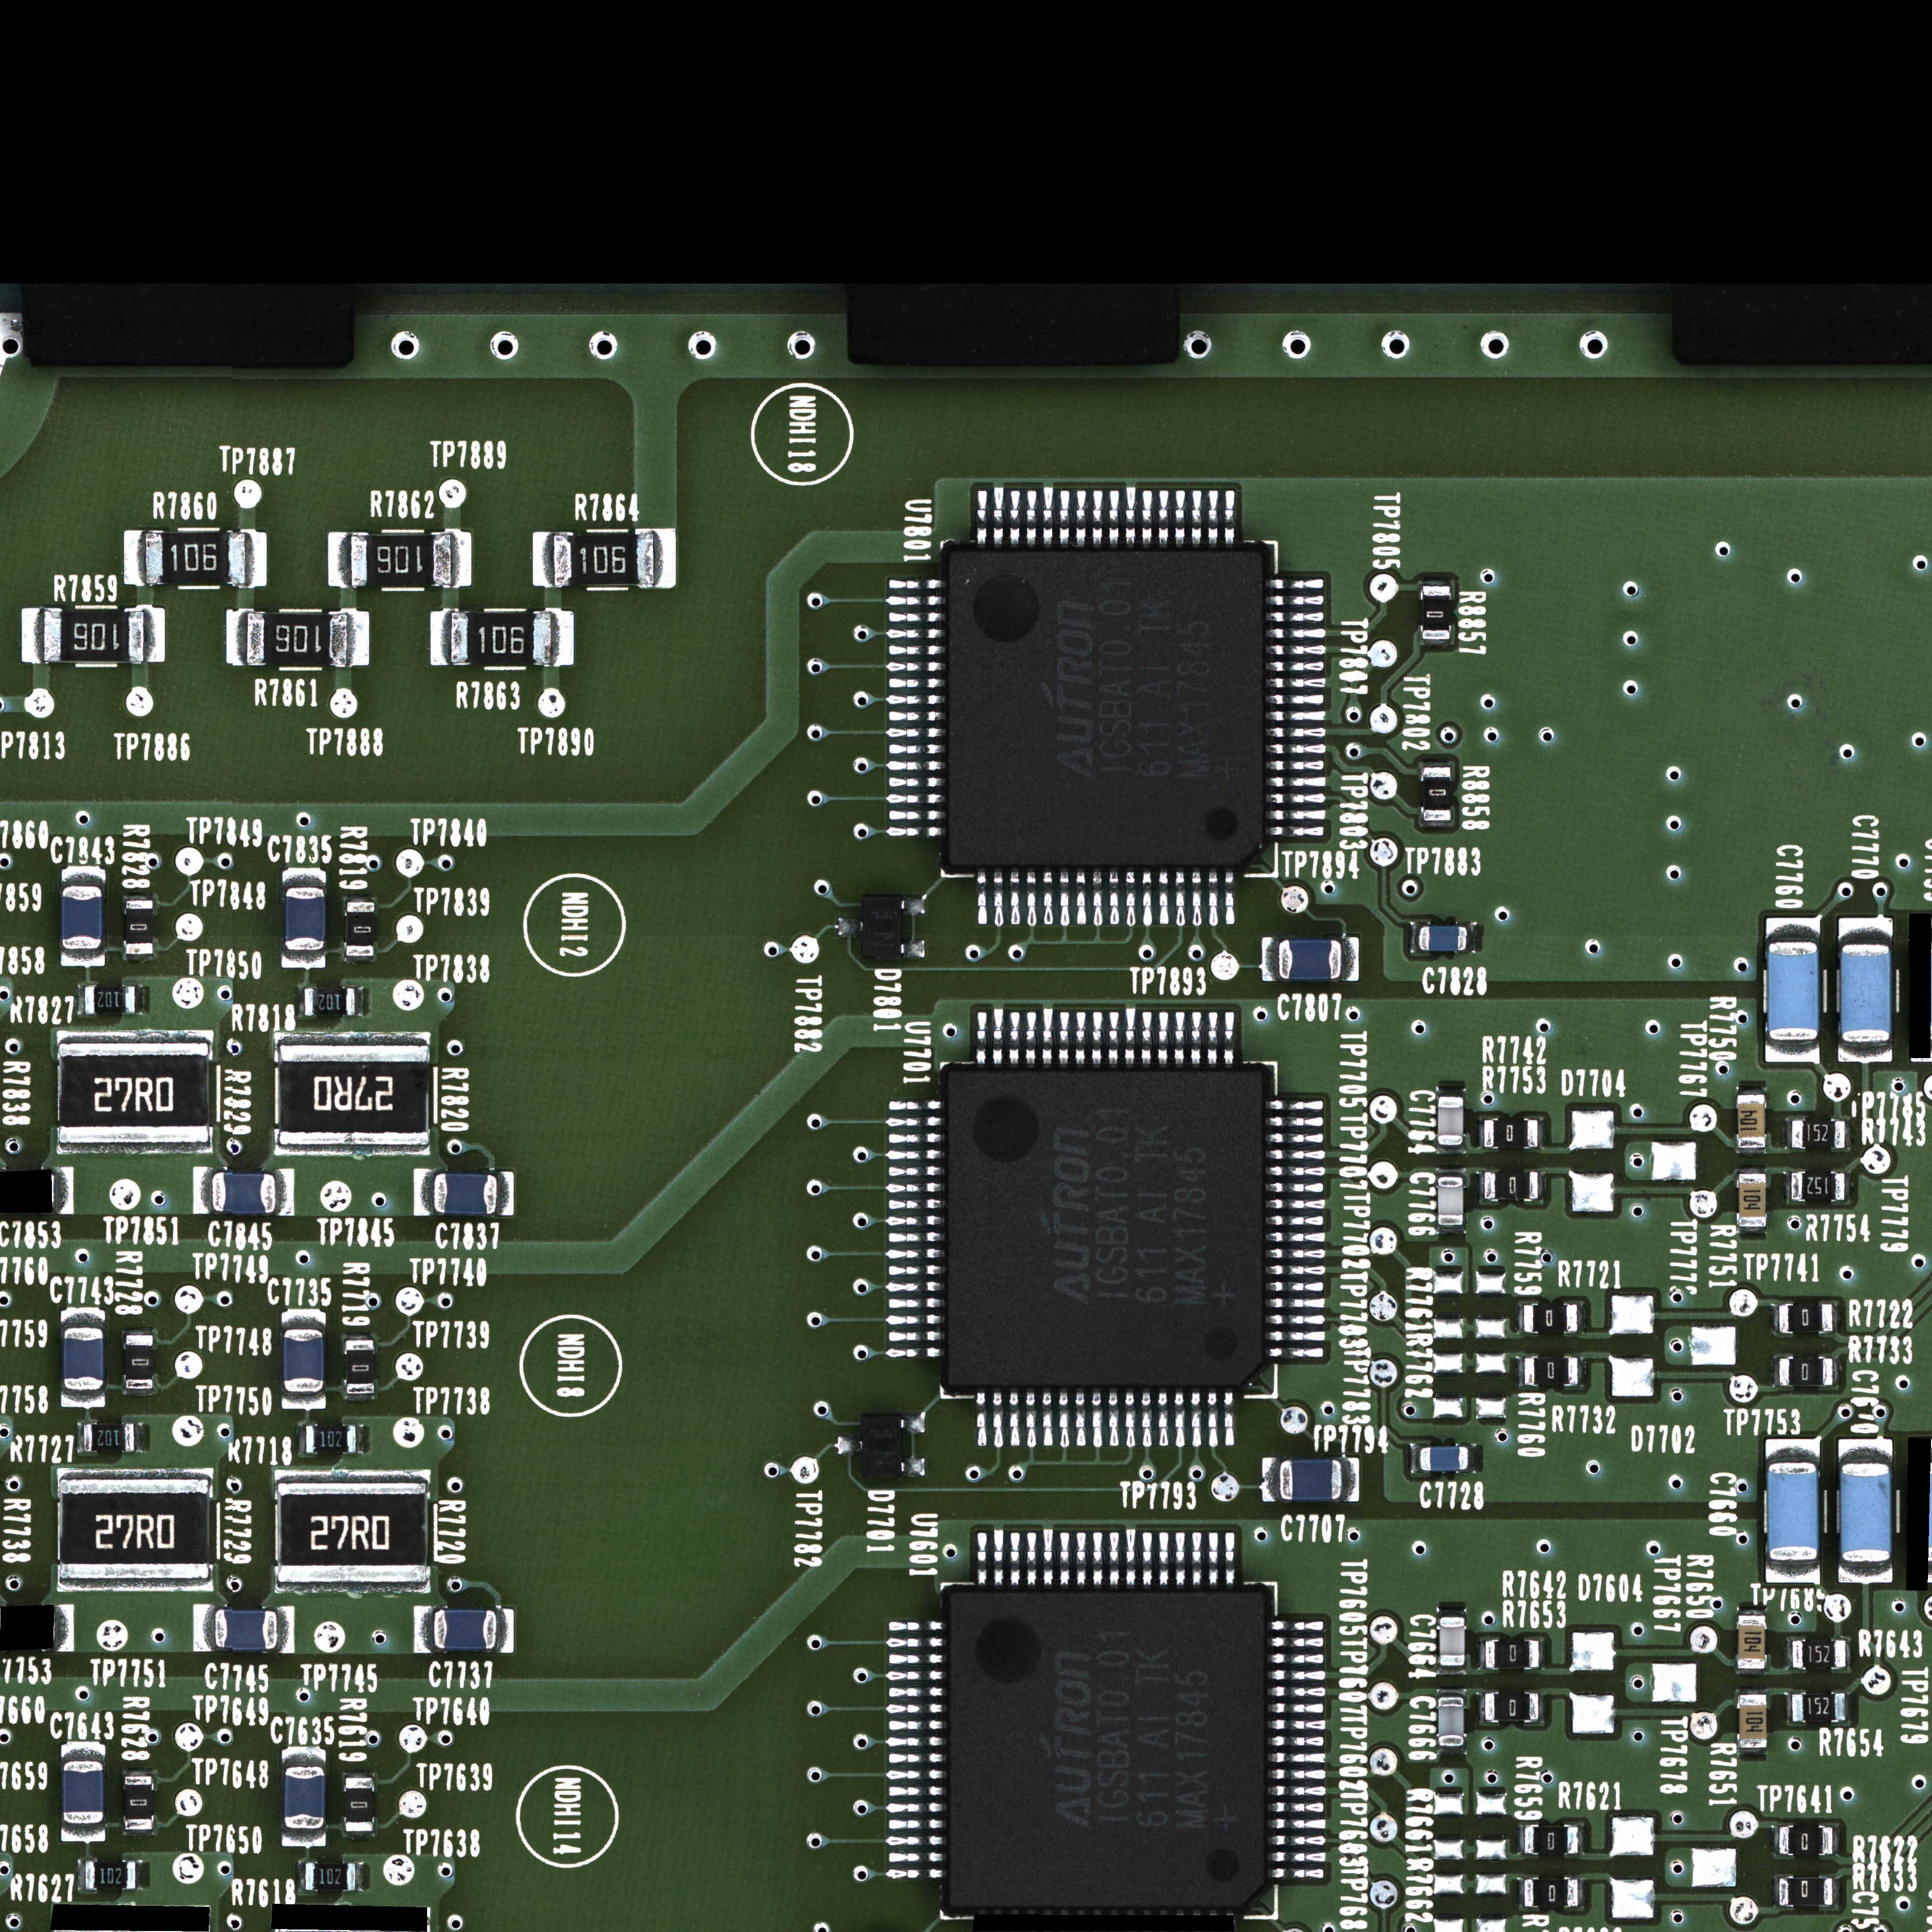Package: (944, 1585, 1268, 1911), (946, 1070, 1264, 1386), (947, 550, 1264, 866), (58, 1042, 209, 1142), (60, 1478, 210, 1578), (280, 1045, 429, 1145), (279, 1481, 427, 1581), (43, 610, 144, 663), (553, 533, 654, 585), (450, 613, 552, 665), (247, 614, 348, 666), (145, 532, 245, 585), (352, 535, 452, 586), (1769, 942, 1819, 1040), (1841, 943, 1890, 1042), (1841, 1463, 1891, 1562), (1768, 1461, 1818, 1560), (1278, 1459, 1342, 1499), (215, 1609, 277, 1650), (433, 1174, 498, 1213), (211, 1173, 276, 1212), (1278, 940, 1342, 979), (285, 1766, 325, 1828), (285, 887, 325, 949), (62, 885, 102, 948), (862, 1415, 902, 1478), (433, 1611, 497, 1649), (63, 1761, 103, 1823), (863, 895, 902, 959), (284, 1330, 324, 1392), (64, 1328, 103, 1390), (346, 902, 374, 956), (1484, 1172, 1538, 1200), (126, 901, 153, 955), (1422, 586, 1450, 639), (125, 1775, 153, 1829), (1739, 1173, 1766, 1227), (1779, 1305, 1833, 1333), (1524, 1304, 1577, 1332), (1791, 1694, 1845, 1722), (1779, 1827, 1833, 1854), (1484, 1120, 1538, 1147), (1739, 1695, 1767, 1748), (1423, 767, 1451, 820), (346, 1340, 374, 1393), (1792, 1641, 1845, 1668), (1485, 1693, 1538, 1721), (1524, 1827, 1578, 1854), (1524, 1880, 1578, 1907), (1524, 1358, 1578, 1385), (1738, 1616, 1765, 1668), (346, 1777, 373, 1831), (1791, 1121, 1845, 1148), (1791, 1173, 1845, 1200), (1779, 1359, 1833, 1386), (1485, 1641, 1539, 1668), (126, 1336, 153, 1388), (1738, 1095, 1765, 1148), (1779, 1878, 1833, 1904), (85, 987, 136, 1014), (306, 989, 356, 1015), (85, 1862, 136, 1888), (84, 1424, 135, 1450), (306, 1425, 356, 1452), (305, 1863, 356, 1889), (1439, 1615, 1465, 1666), (1439, 1696, 1464, 1745), (1438, 1097, 1463, 1145), (1420, 1446, 1468, 1471), (1438, 1175, 1463, 1224), (1419, 926, 1467, 951)
Solder: (275, 1469, 430, 1483), (57, 1579, 214, 1592), (274, 1032, 432, 1045), (56, 1030, 214, 1042), (274, 1145, 431, 1156), (275, 1581, 431, 1593), (56, 1467, 214, 1478), (56, 1143, 213, 1154), (654, 529, 677, 588), (1838, 918, 1893, 943), (1766, 1561, 1820, 1584), (1766, 1439, 1820, 1461), (1766, 918, 1821, 940), (1838, 1440, 1893, 1462), (1765, 1041, 1820, 1063), (329, 533, 350, 587), (1838, 1562, 1892, 1584), (124, 531, 145, 585), (552, 612, 574, 666), (22, 609, 43, 663), (532, 531, 553, 587), (348, 612, 369, 666), (145, 608, 165, 663), (246, 532, 267, 587), (227, 610, 246, 665), (431, 611, 450, 666), (1838, 1043, 1892, 1063), (452, 531, 471, 587), (193, 1604, 214, 1651), (56, 1603, 75, 1652), (414, 1606, 433, 1653), (414, 1169, 433, 1216), (276, 1168, 294, 1216), (193, 1166, 211, 1213), (277, 1605, 294, 1654), (281, 950, 326, 969), (56, 1167, 74, 1215), (61, 1824, 106, 1842), (61, 1309, 106, 1327), (61, 1390, 105, 1408), (61, 949, 105, 966), (497, 1608, 514, 1653), (1261, 1457, 1279, 1502), (61, 1743, 106, 1760), (884, 1248, 944, 1260), (282, 1830, 326, 1847), (282, 1311, 326, 1328), (62, 868, 106, 885), (497, 1171, 514, 1216), (1342, 937, 1359, 982), (885, 1281, 944, 1294), (283, 869, 326, 887), (1266, 793, 1327, 805), (1266, 611, 1325, 624), (1343, 1457, 1359, 1502), (1270, 1669, 1326, 1683), (1270, 1686, 1326, 1699), (1270, 1719, 1326, 1732), (1270, 1752, 1326, 1765), (1270, 1768, 1326, 1781), (1270, 1784, 1326, 1797), (1270, 1800, 1326, 1813), (1270, 1818, 1326, 1831), (1270, 1834, 1326, 1847), (1270, 1850, 1326, 1864), (1270, 1866, 1326, 1880), (885, 1215, 943, 1228), (885, 726, 945, 739), (1266, 710, 1326, 722), (1266, 776, 1326, 788), (886, 1115, 943, 1128), (1157, 1529, 1169, 1587), (1173, 1529, 1186, 1587), (282, 1393, 326, 1409), (1009, 1529, 1022, 1586), (1042, 1528, 1055, 1585), (1025, 1528, 1038, 1585), (1058, 1529, 1071, 1586), (1074, 1529, 1087, 1586), (1124, 1528, 1137, 1585), (1108, 1528, 1120, 1585), (1091, 1528, 1104, 1585), (1140, 1529, 1153, 1586), (1190, 1529, 1203, 1586), (1206, 1529, 1219, 1586), (1222, 1529, 1235, 1586), (283, 1749, 326, 1766), (1266, 644, 1327, 656), (886, 793, 945, 805), (1266, 1132, 1324, 1145), (888, 761, 947, 773), (885, 1149, 943, 1161), (1266, 1314, 1326, 1326), (886, 1298, 944, 1310), (886, 694, 944, 706), (887, 776, 945, 789), (885, 1182, 943, 1194), (1267, 594, 1325, 607), (1265, 1199, 1325, 1210), (1266, 1231, 1326, 1243), (1266, 760, 1326, 772), (1266, 1330, 1326, 1342), (886, 1314, 943, 1326), (886, 1199, 944, 1211), (1266, 1298, 1325, 1309), (1266, 677, 1326, 689), (1266, 661, 1325, 673), (887, 611, 944, 624), (993, 1529, 1005, 1586), (886, 1720, 943, 1732), (886, 1737, 943, 1749), (888, 1619, 942, 1632), (1266, 1215, 1325, 1227), (1266, 694, 1325, 706), (1266, 1281, 1325, 1293), (886, 661, 945, 673), (1262, 937, 1278, 981), (1266, 825, 1325, 837), (1265, 1165, 1326, 1177), (1265, 1265, 1326, 1276), (1266, 1248, 1327, 1259), (1266, 1116, 1324, 1128), (1266, 743, 1326, 755), (1265, 1149, 1325, 1160), (886, 595, 944, 607), (1025, 489, 1037, 546), (886, 1636, 943, 1648), (885, 1687, 942, 1698), (885, 1670, 942, 1682), (886, 1703, 943, 1715), (886, 1752, 943, 1764), (886, 1768, 943, 1780), (887, 1785, 944, 1796), (886, 1801, 943, 1813), (885, 1819, 942, 1831), (885, 1835, 942, 1846), (886, 1851, 943, 1863), (1270, 1619, 1325, 1632), (1270, 1637, 1325, 1649), (1270, 1653, 1325, 1665), (1270, 1735, 1325, 1747), (1267, 809, 1326, 821), (1108, 489, 1120, 546), (1091, 1391, 1103, 1447), (1268, 579, 1324, 590), (1041, 1391, 1053, 1447), (885, 1653, 942, 1665), (885, 1868, 942, 1880), (1271, 1702, 1325, 1714), (1265, 1099, 1324, 1111), (887, 810, 945, 821), (1207, 1392, 1218, 1448), (887, 579, 943, 590), (1058, 1392, 1070, 1448), (976, 1532, 988, 1585), (886, 826, 944, 838), (1157, 1392, 1169, 1447), (1267, 1347, 1324, 1358), (1266, 628, 1326, 639), (1265, 1182, 1325, 1193), (1124, 1009, 1136, 1065), (1141, 1391, 1152, 1448), (1025, 1393, 1037, 1449), (976, 489, 988, 545), (889, 744, 945, 755), (1108, 1391, 1119, 1447), (1174, 1392, 1185, 1448), (1190, 1392, 1202, 1448), (1009, 1391, 1020, 1447), (1092, 870, 1103, 926), (1207, 490, 1218, 546), (992, 1010, 1004, 1065), (1026, 870, 1037, 925), (976, 1392, 987, 1447), (1124, 1392, 1135, 1448), (1109, 870, 1120, 925), (1191, 490, 1202, 545), (1042, 870, 1054, 925), (889, 1132, 943, 1144), (1108, 1011, 1119, 1065), (1025, 1011, 1036, 1065), (1125, 488, 1136, 545), (885, 1348, 942, 1358), (1059, 872, 1070, 926), (1267, 727, 1326, 737), (1075, 1391, 1086, 1447), (888, 678, 945, 689), (888, 1265, 945, 1276), (992, 1391, 1003, 1448), (1190, 1012, 1202, 1065), (976, 1011, 987, 1065), (1042, 1010, 1053, 1065), (1075, 490, 1086, 546), (1223, 1391, 1234, 1447), (1208, 870, 1219, 926), (1075, 1012, 1086, 1065), (993, 487, 1004, 546), (885, 629, 944, 639), (1092, 490, 1103, 546), (1010, 870, 1020, 925), (1125, 870, 1136, 926), (1142, 871, 1153, 926), (1010, 491, 1020, 546), (1174, 490, 1185, 545), (1075, 870, 1086, 925), (1158, 490, 1169, 545), (1141, 1010, 1152, 1065), (1158, 870, 1169, 925), (889, 711, 944, 722), (1009, 1011, 1020, 1065), (1059, 1012, 1069, 1066), (1043, 486, 1053, 546), (1092, 1012, 1103, 1065), (888, 645, 945, 655), (1207, 1012, 1218, 1065), (1174, 1012, 1185, 1065), (1158, 1012, 1168, 1065), (1175, 870, 1185, 926), (888, 1166, 944, 1176), (993, 870, 1004, 926), (1142, 490, 1152, 546), (977, 870, 987, 925), (1224, 490, 1234, 545), (888, 1331, 943, 1342), (889, 1101, 943, 1111), (1224, 1012, 1234, 1065), (888, 1232, 942, 1243), (1192, 872, 1202, 927), (1225, 870, 1235, 924), (1060, 490, 1069, 546), (836, 918, 864, 937), (836, 1436, 863, 1454), (901, 1413, 925, 1433), (901, 1457, 925, 1476), (901, 940, 925, 958), (902, 897, 925, 915), (1409, 1443, 1420, 1473), (1782, 1171, 1791, 1205), (135, 1422, 145, 1452), (1409, 922, 1419, 953), (1468, 922, 1477, 953), (1578, 1356, 1587, 1388), (1515, 1356, 1524, 1388), (1468, 1443, 1478, 1473), (296, 1423, 305, 1455), (1436, 1087, 1466, 1096), (1737, 1607, 1768, 1616), (342, 1831, 375, 1839), (1437, 1225, 1466, 1234), (123, 1768, 154, 1777), (356, 1861, 364, 1891), (1476, 1171, 1484, 1203), (1437, 1688, 1466, 1696), (1438, 1746, 1467, 1754), (1783, 1119, 1791, 1150), (1476, 1692, 1484, 1723), (1578, 1823, 1585, 1855), (1578, 1303, 1585, 1335), (1437, 1167, 1465, 1176), (1437, 1146, 1465, 1154), (355, 986, 363, 1016), (136, 1860, 144, 1890), (298, 1860, 305, 1892), (1437, 1608, 1466, 1616), (1539, 1171, 1546, 1203), (1538, 1691, 1546, 1723), (1737, 1086, 1766, 1094), (356, 1424, 364, 1453), (77, 1860, 85, 1890), (1538, 1118, 1545, 1149), (1784, 1692, 1791, 1723), (1516, 1304, 1524, 1335), (1737, 1227, 1767, 1234), (76, 1422, 84, 1452), (344, 1771, 374, 1778), (124, 1328, 154, 1336), (1437, 1667, 1467, 1674), (1517, 1878, 1524, 1909), (1422, 579, 1450, 586), (1738, 1166, 1767, 1173), (1517, 1825, 1524, 1856), (1771, 1825, 1778, 1856), (345, 895, 376, 902), (1421, 821, 1453, 827), (1736, 1689, 1768, 1695), (136, 985, 143, 1014), (77, 984, 84, 1014), (1845, 1171, 1851, 1203), (1833, 1876, 1839, 1907), (1737, 1748, 1768, 1754), (1786, 1639, 1792, 1670), (1422, 639, 1451, 646), (344, 957, 375, 963), (344, 1334, 375, 1340), (1477, 1118, 1484, 1149), (1737, 1669, 1767, 1675), (1845, 1692, 1851, 1723), (123, 954, 153, 961), (298, 986, 304, 1016), (344, 1394, 374, 1400), (1478, 1640, 1485, 1670), (1833, 1826, 1839, 1856), (1539, 1638, 1545, 1671), (1421, 761, 1453, 767), (1735, 1148, 1767, 1154), (123, 1389, 154, 1395), (1773, 1875, 1779, 1908), (1845, 1638, 1851, 1670), (1578, 1879, 1584, 1908), (123, 1830, 154, 1835), (1845, 1119, 1851, 1150), (124, 896, 154, 901)
